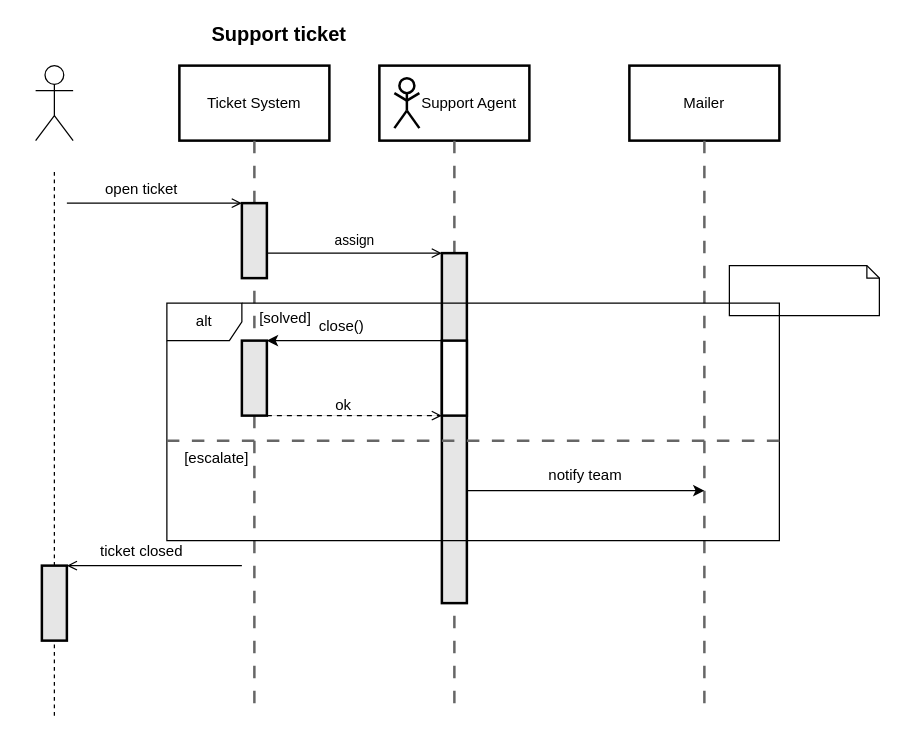
Image size: 901x739. Some labels were removed from this diagram. Each missing label, with the box of its shape:
Customer: (34, 64, 73, 141)
sends mails in batches: (728, 264, 879, 316)
